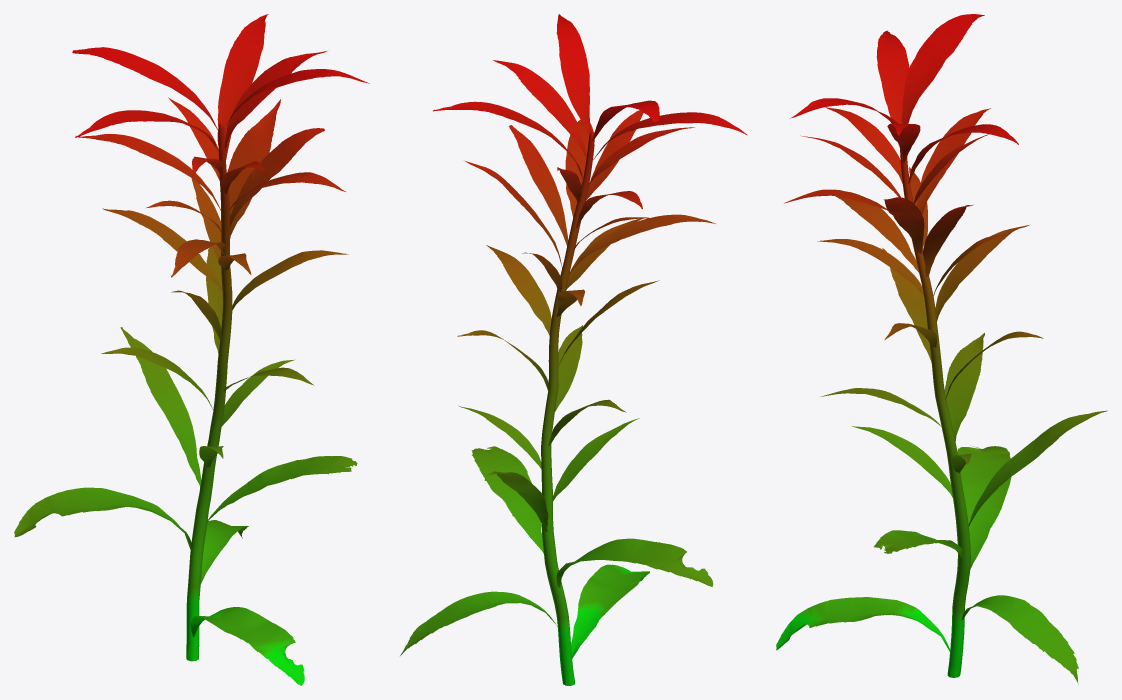
Rendered from Goldenrods_LOD1_Var8.fbx.
The picture shows the model from 3 angles, left to right: view 1: azimuth 30°, elevation 25°; view 2: azimuth 150°, elevation 25°; view 3: azimuth 270°, elevation 25°; orthographic projection. The views are drawn at different scales.
Parts seen in each view (by area): view 1: _7fos_Var8_LOD1; view 2: _7fos_Var8_LOD1; view 3: _7fos_Var8_LOD1.
Boxes of the visible parts, left/top/right/bottom form: _7fos_Var8_LOD1: left=14, top=14, right=369, bottom=685; _7fos_Var8_LOD1: left=400, top=14, right=746, bottom=685; _7fos_Var8_LOD1: left=776, top=14, right=1107, bottom=685.
Size of the model in its own units: 31.42 by 63.46 by 31.13.
